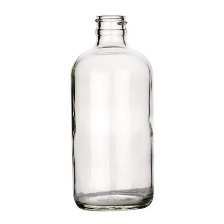bottle: (67, 8, 164, 217)
